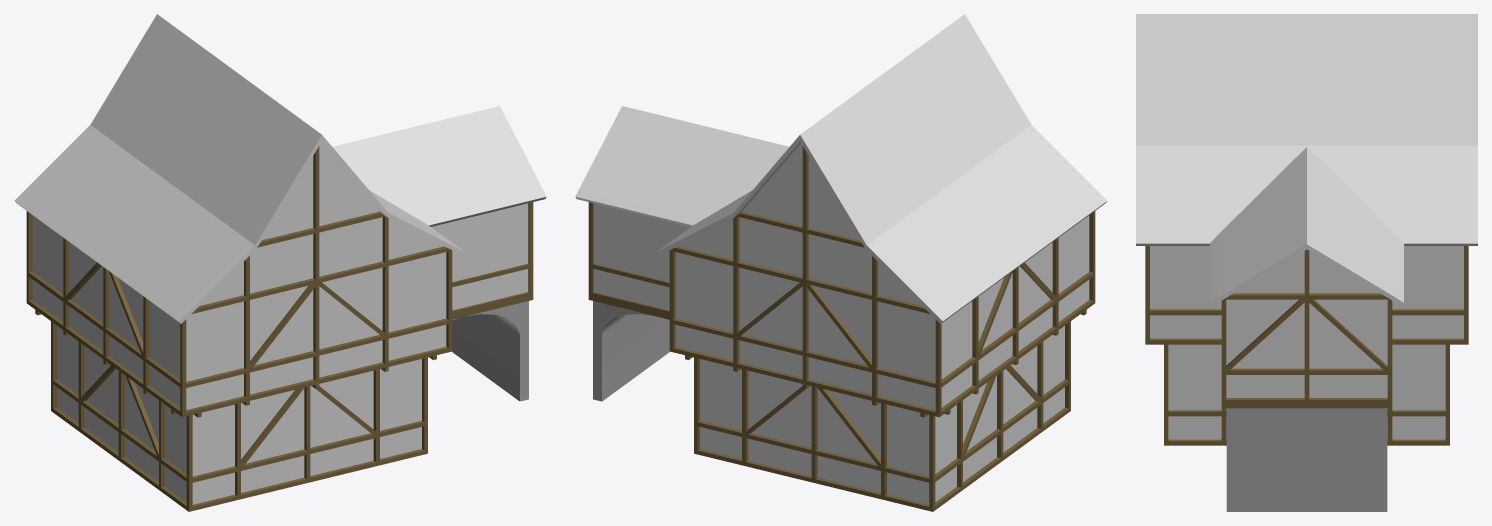
The model's file is HouseArch.fbx.
The picture shows the model from 3 angles, left to right: view 1: azimuth 30°, elevation 25°; view 2: azimuth 150°, elevation 25°; view 3: azimuth 270°, elevation 25°; orthographic projection. The views are drawn at different scales.
Visible parts, largest first — view 1: HouseBase, HouseArch_Frame, StoneArch; view 2: HouseBase, HouseArch_Frame, StoneArch; view 3: HouseBase, StoneArch, HouseArch_Frame.
Boxes of the visible parts, bbox=[...] form: HouseBase: bbox=[14, 14, 546, 504]; HouseArch_Frame: bbox=[26, 146, 533, 511]; StoneArch: bbox=[452, 301, 528, 401]; HouseBase: bbox=[575, 14, 1107, 504]; HouseArch_Frame: bbox=[588, 146, 1095, 511]; StoneArch: bbox=[593, 301, 669, 401]; HouseBase: bbox=[1136, 14, 1477, 439]; StoneArch: bbox=[1226, 408, 1387, 511]; HouseArch_Frame: bbox=[1145, 246, 1468, 445].
Size of the model in its own units: 52.26 by 44.34 by 37.
